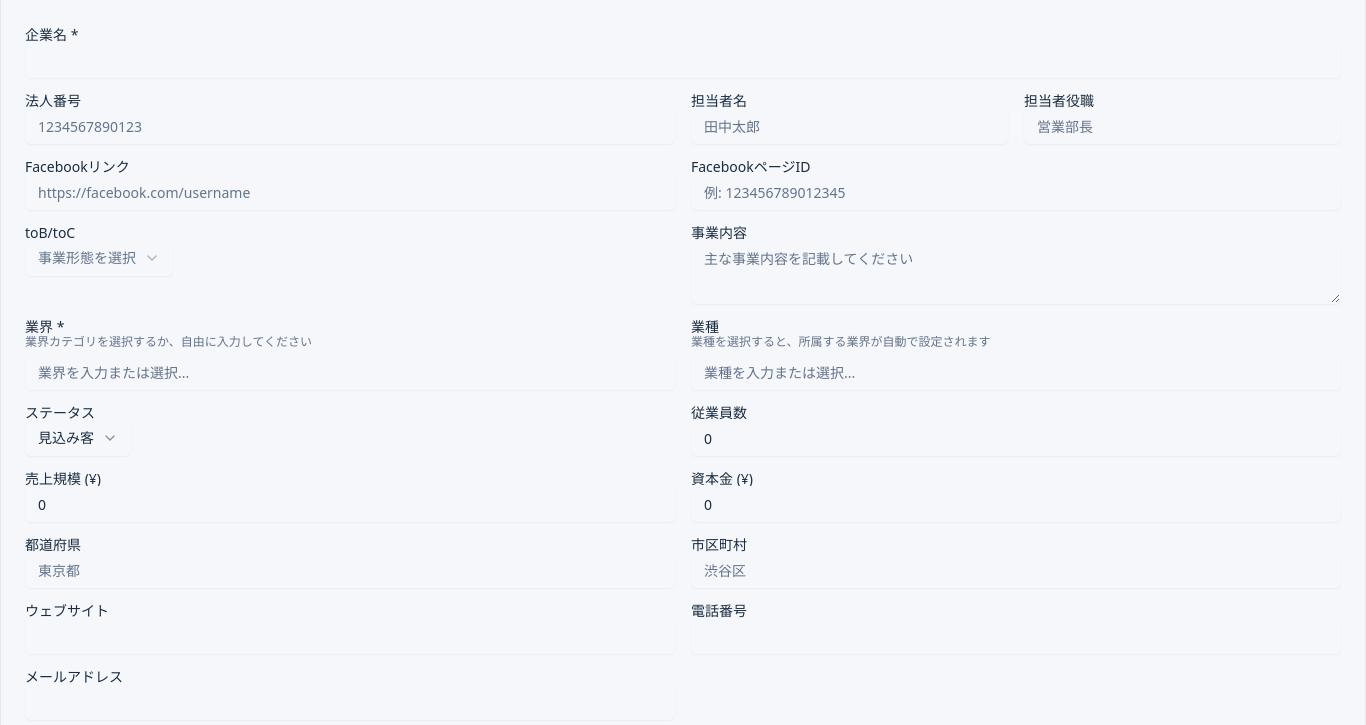
Test: CompanyForm › バリデーション › should validate website URL format
The width and height of the screenshot is (1366, 725).
Type "テスト企業" into the field labelled "企業名 *" at (683, 60), box top-left (25, 42), bottom-right (1341, 78)
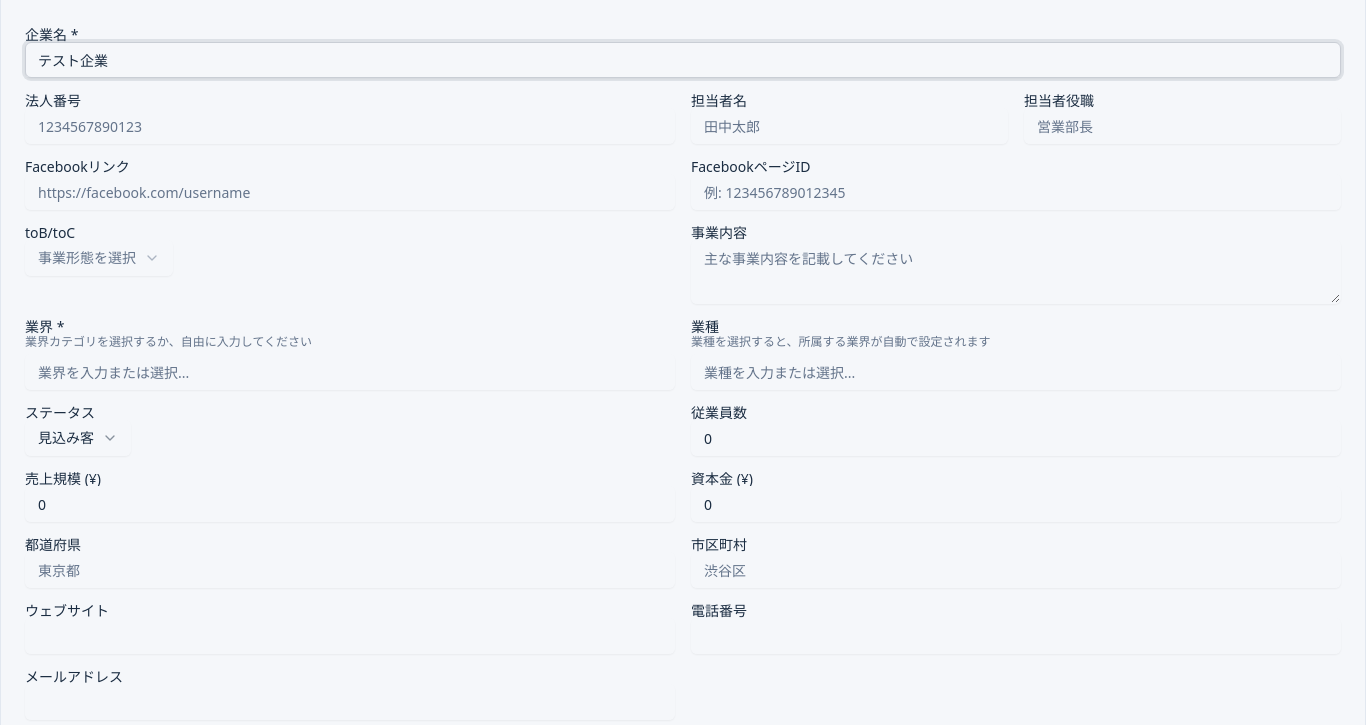
Type "IT" into the field labelled "業界 *" at (350, 372), box top-left (25, 354), bottom-right (675, 390)
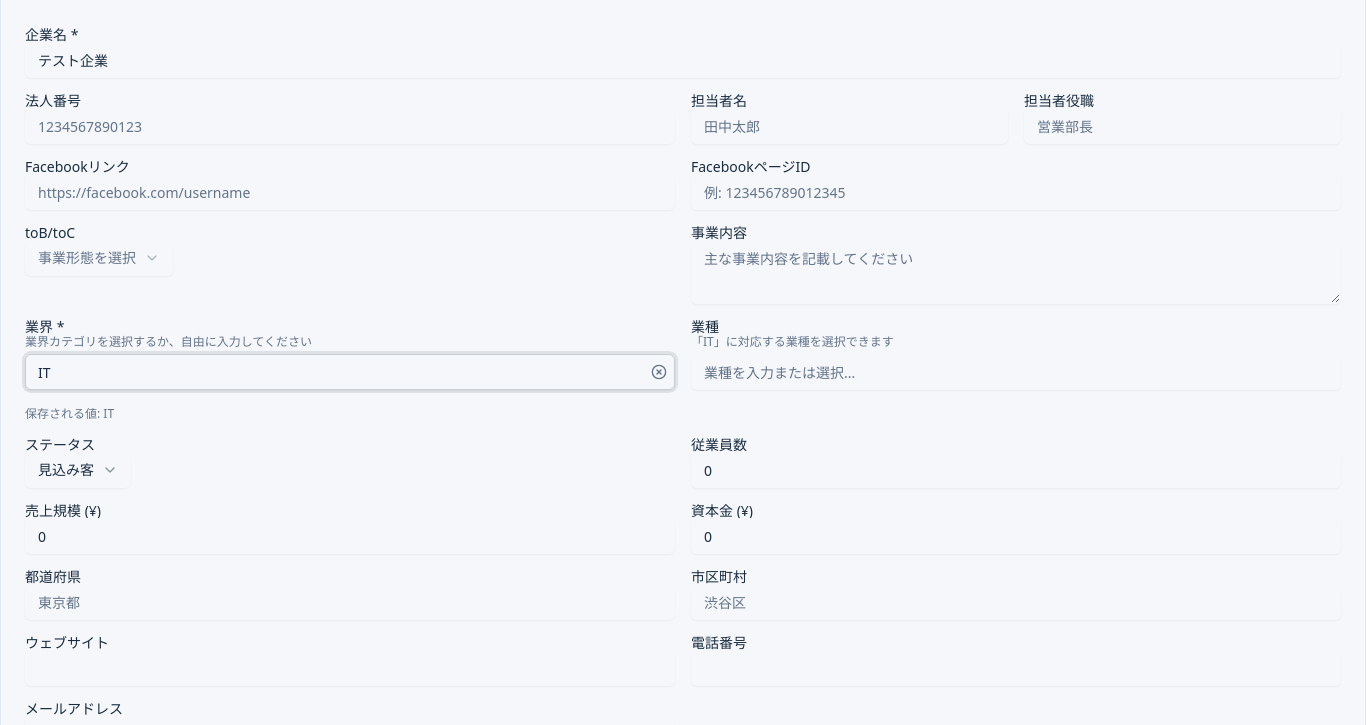
Type "invalid-url" into the field labelled "ウェブサイト" at (350, 668), box top-left (25, 650), bottom-right (675, 686)
(page scrolled)
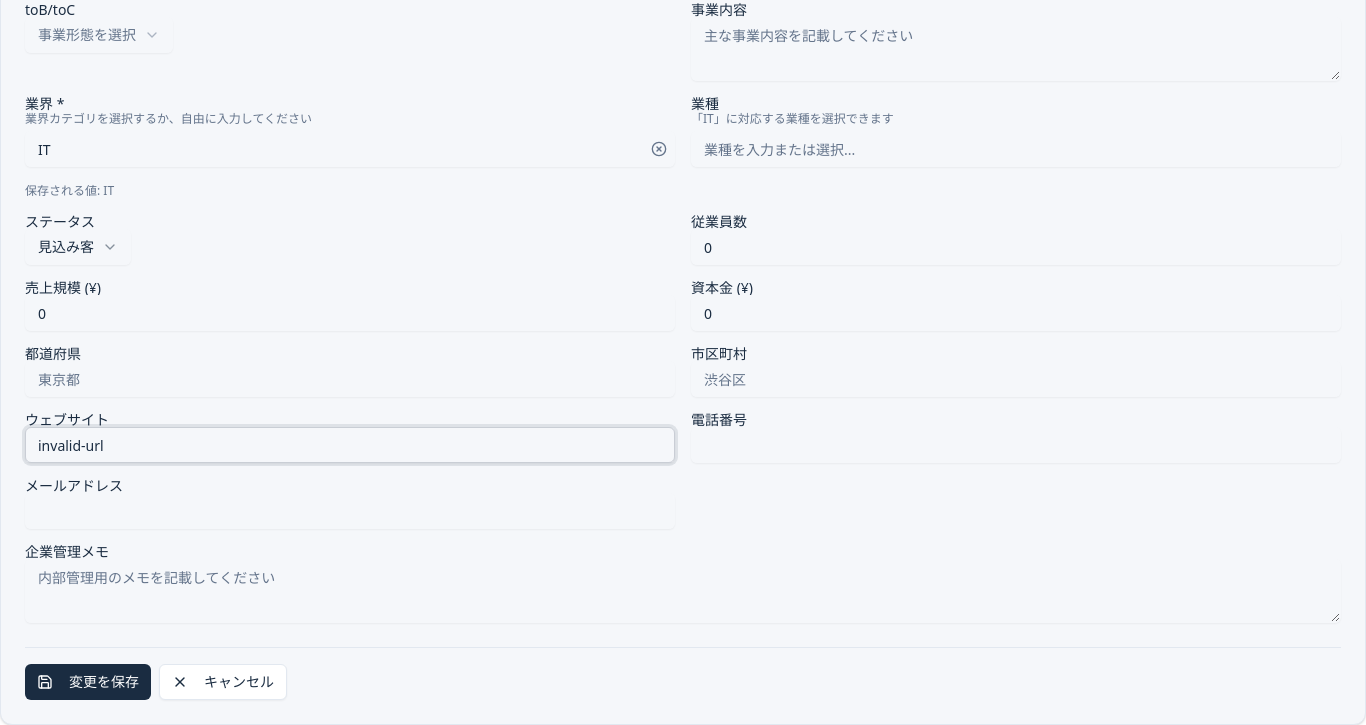
Click the button "変更を保存" at (88, 682), box top-left (25, 664), bottom-right (151, 700)
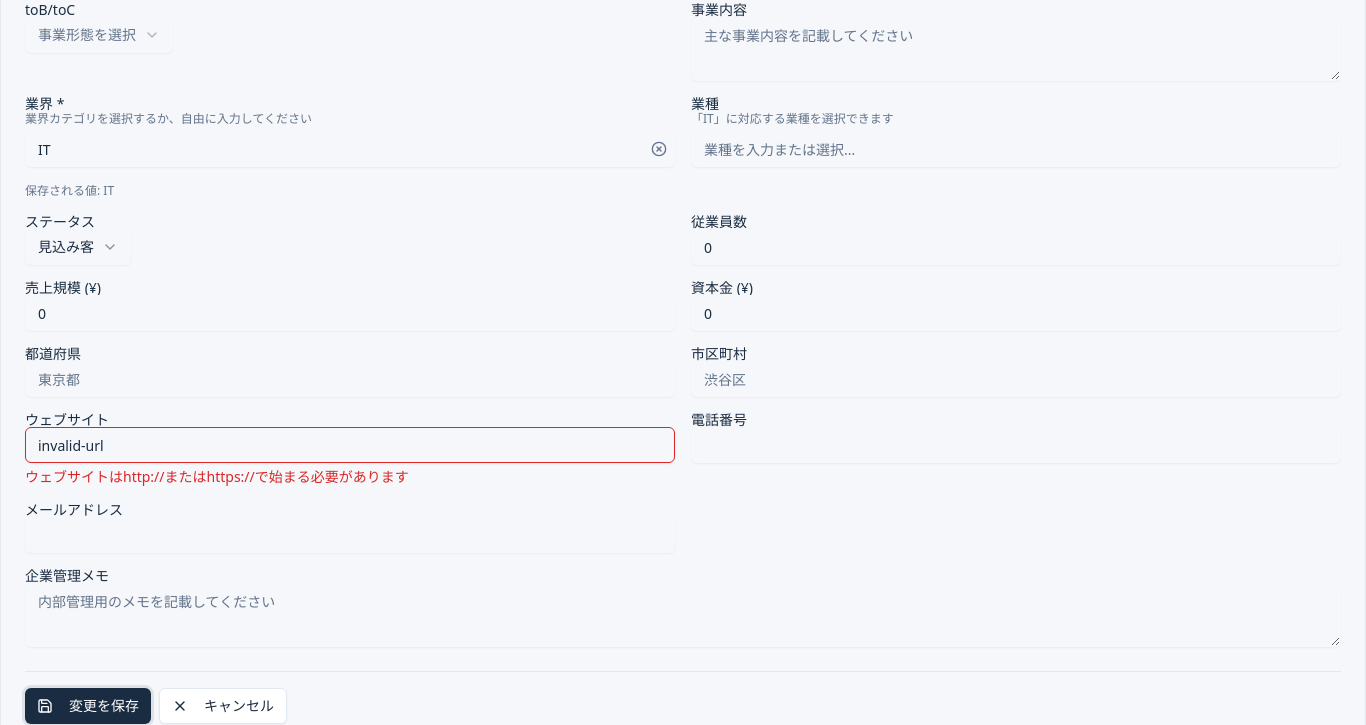
Result: the text "ウェブサイトはhttp://またはhttps://で始まる必要があります" is shown at top-left (25, 467), bottom-right (409, 486)
